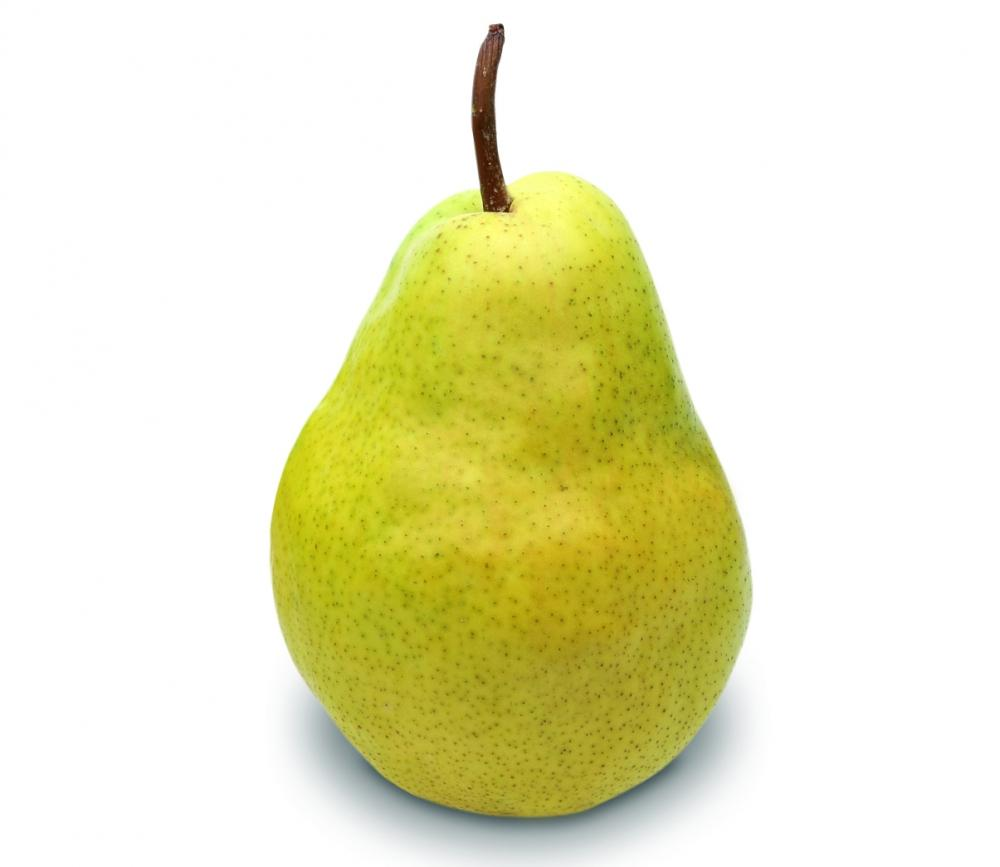peas: (261, 159, 781, 837)
